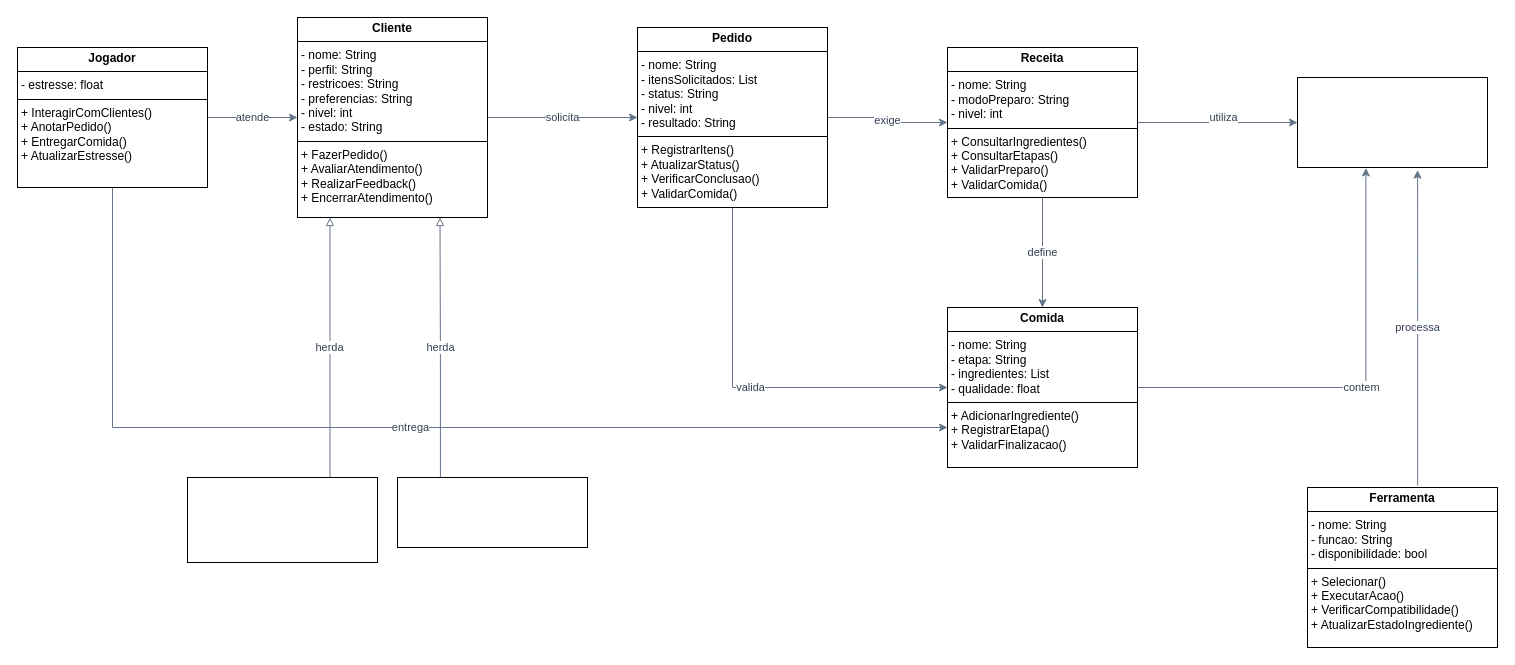
Image size: 1515x665. Some labels were removed from this diagram. The shapes that lost their labels are listed below. From the top down, each one's centre as x and y in pixels, then its label:
[1392,122]: Igrediente - nome: String - categoria: String - caracteristicas: String
[282,519]: Mosntro - especie: String - caracteristicas: String
[492,512]: Humano - caracteristicas: String
